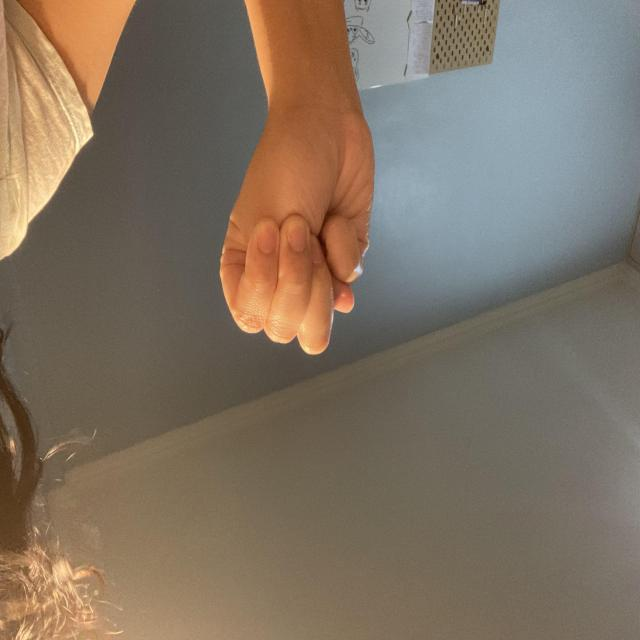M: (265, 284, 421, 530)
